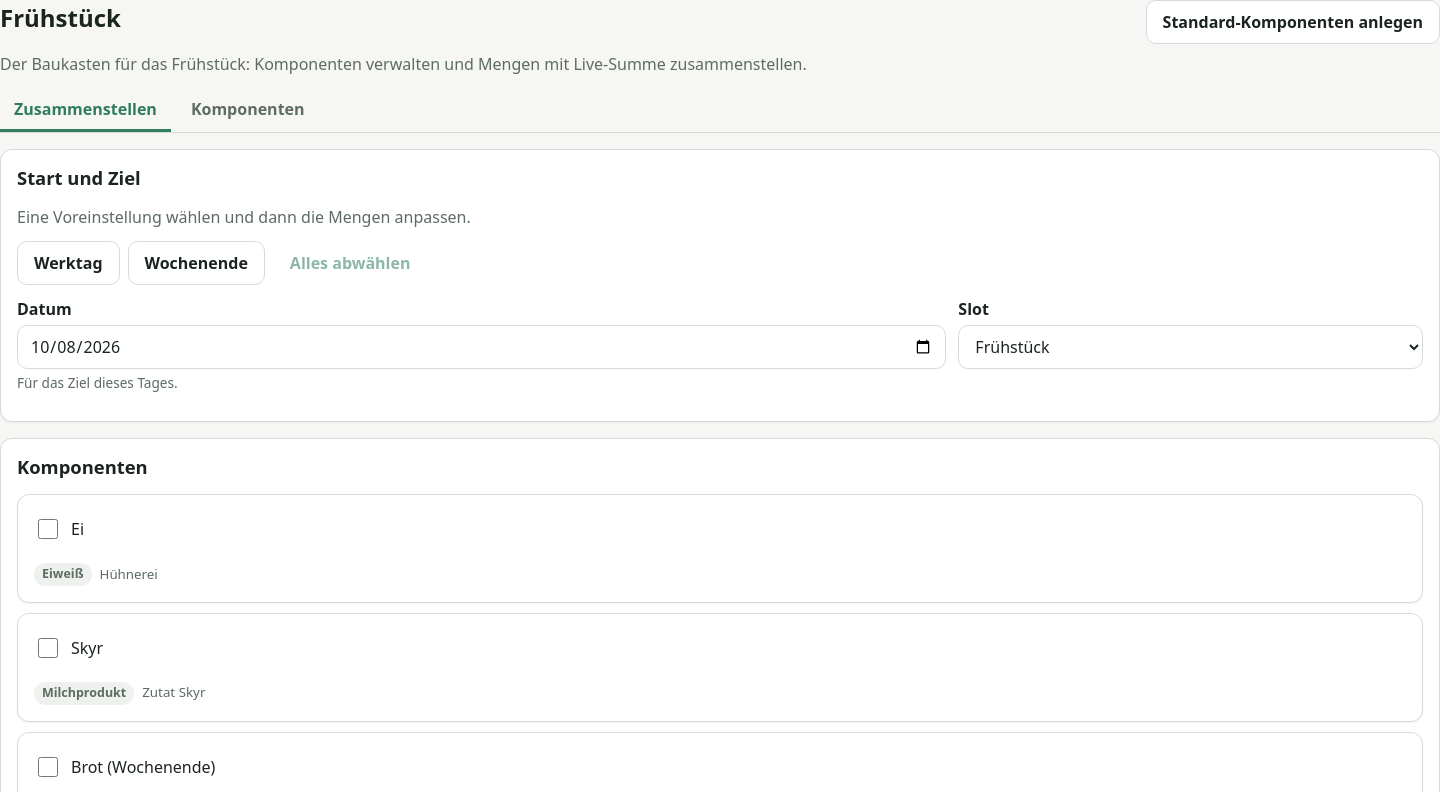
Scenario: Frühstück: Rechner › berechnet die Summe live, sendet Datum und Slot und hebt Salz hervor
Click the checkbox labelled "Skyr": (48, 648) [38, 638, 58, 658]
(page scrolled)
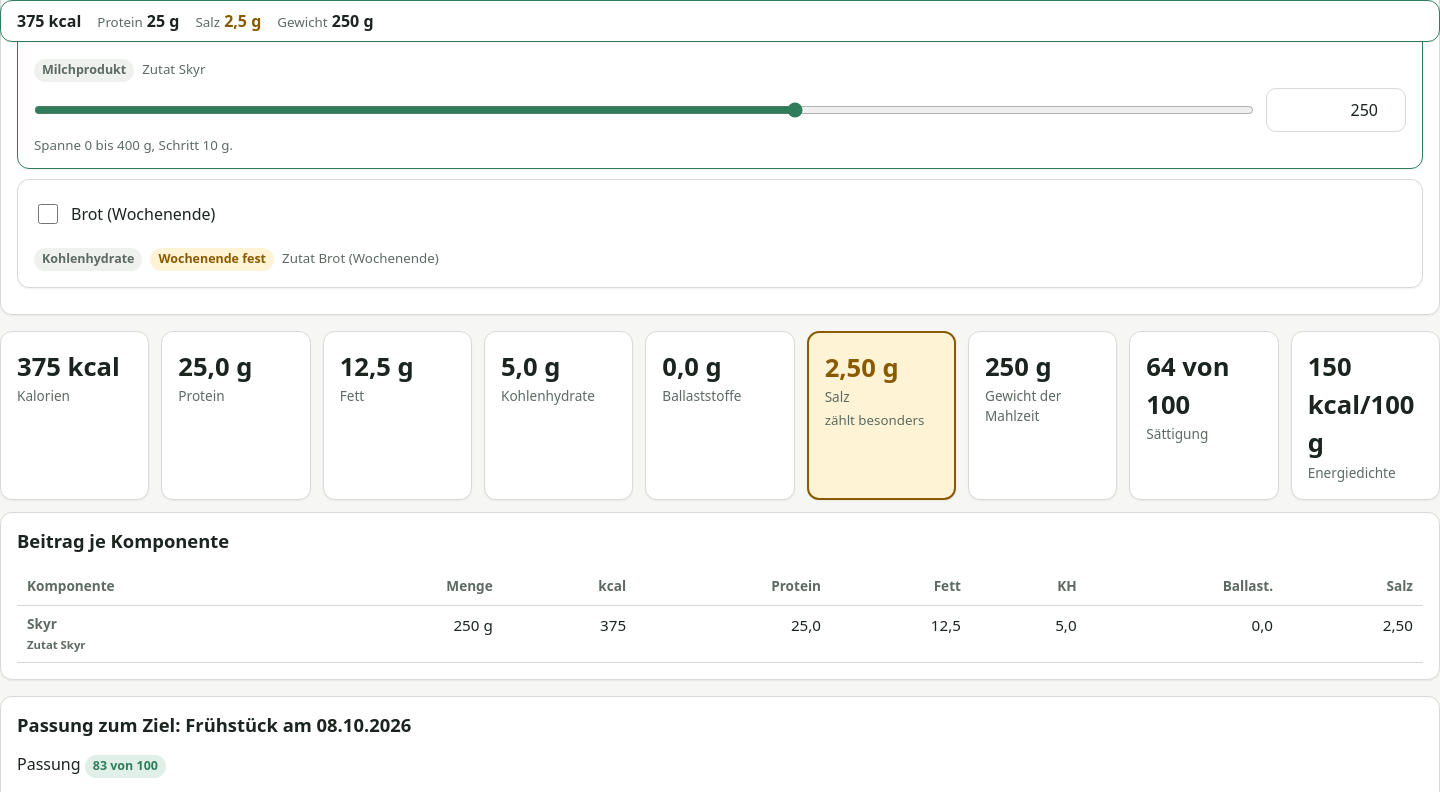
Now the text "375 kcal" next to "25,0 g" is shown, box [17, 348, 120, 384]
Now the text "250 g" is shown, box [985, 348, 1052, 384]
Now the text "64 von 100" is shown, box [1146, 348, 1230, 422]
